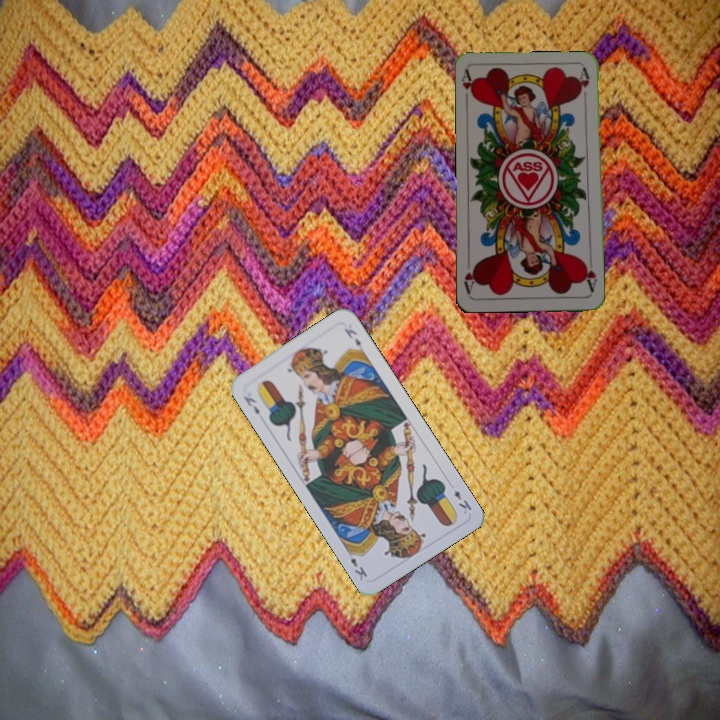EK: (450, 486, 475, 517), (239, 392, 262, 417)
HA: (458, 67, 478, 107), (580, 255, 599, 294)
